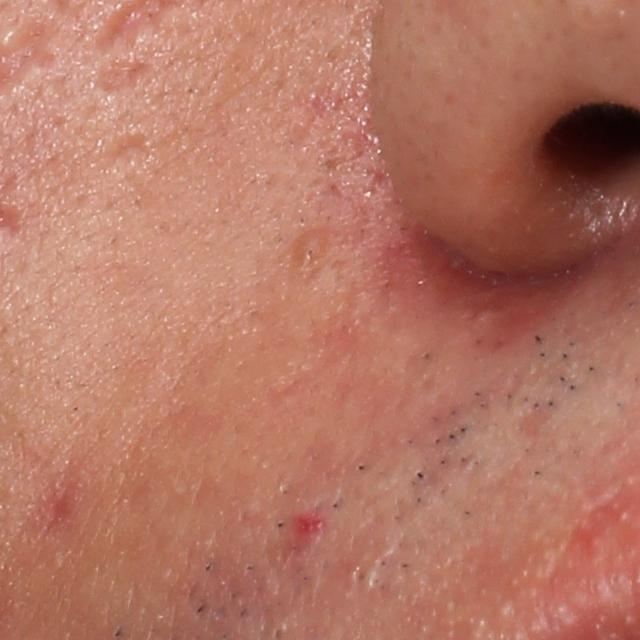atrophic_scar: (95, 58, 156, 93), (103, 133, 152, 169)
comedo: (290, 230, 324, 271)
